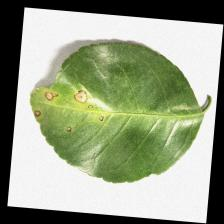canker: (25, 59, 118, 149)
